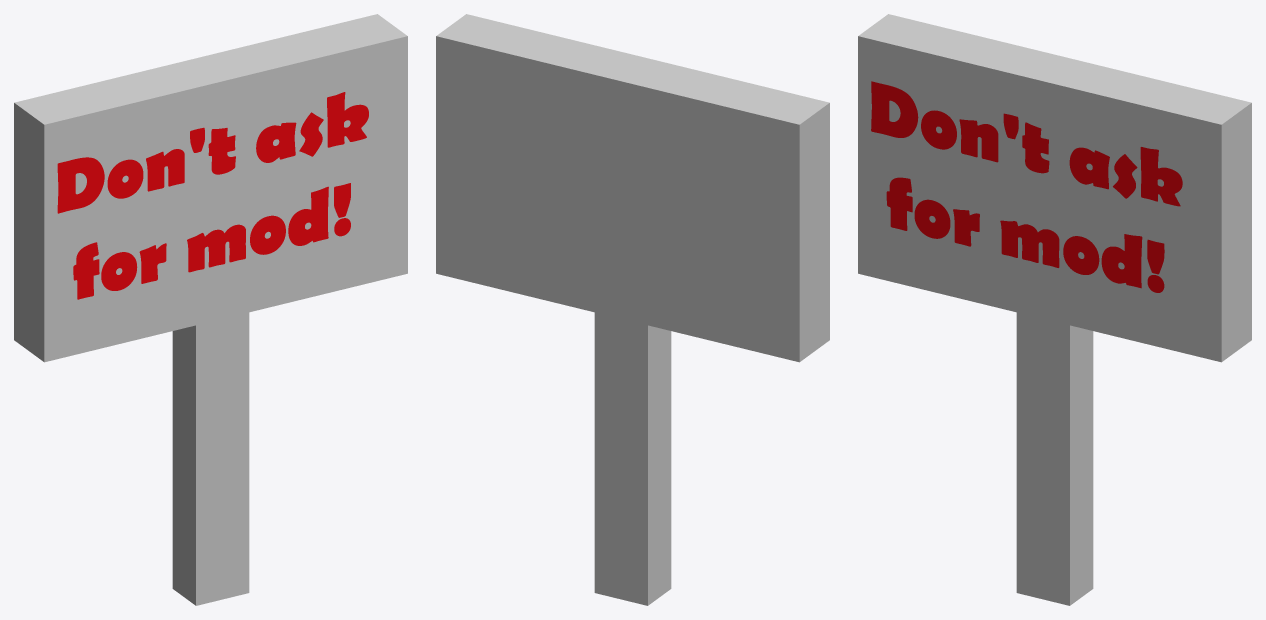
Rendered from Dont_Ask_For_Mod_Sign.fbx.
3 views of the same model, side by side, from view 1: azimuth 30°, elevation 25°; view 2: azimuth 150°, elevation 25°; view 3: azimuth 330°, elevation 25° (orthographic).
Visible parts, largest first — view 1: Cube, Cube.001, Text; view 2: Cube, Cube.001; view 3: Cube, Cube.001, Text.
Part boxes in pixels (x1,y1,x2,y2): Cube: [14, 14, 407, 362]; Cube.001: [172, 312, 249, 605]; Text: [57, 92, 368, 299]; Cube: [436, 14, 829, 362]; Cube.001: [594, 312, 671, 605]; Cube: [858, 14, 1251, 362]; Cube.001: [1016, 312, 1093, 605]; Text: [871, 81, 1182, 292].
Size of the model in its own units: 186 by 256 by 27.09.
